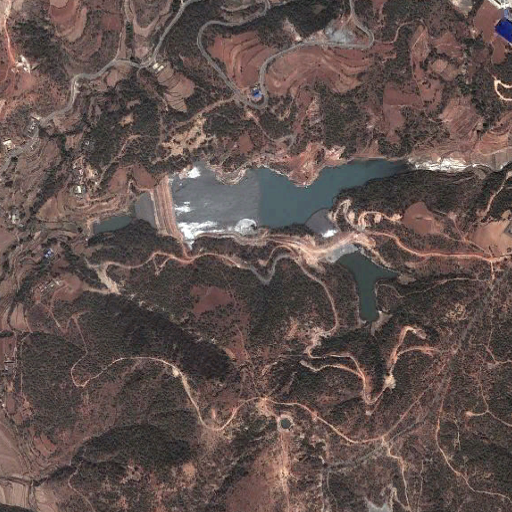tp: (133, 158, 416, 240)
